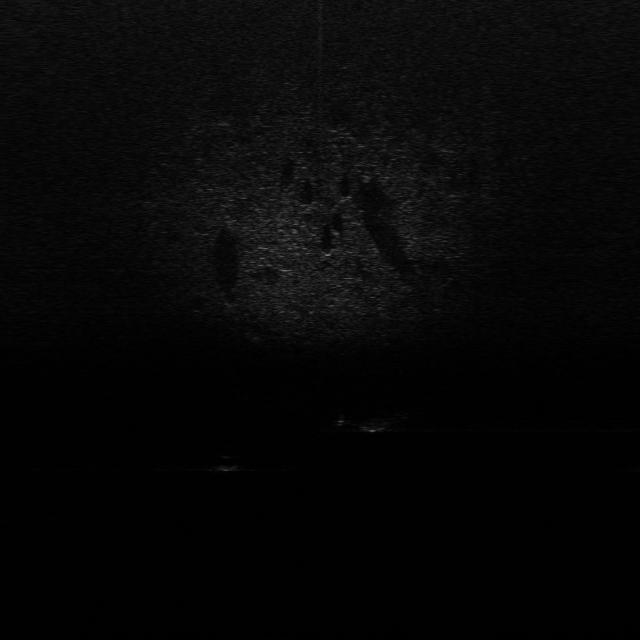ball: (210, 448, 240, 476)
human body: (336, 405, 413, 433)
